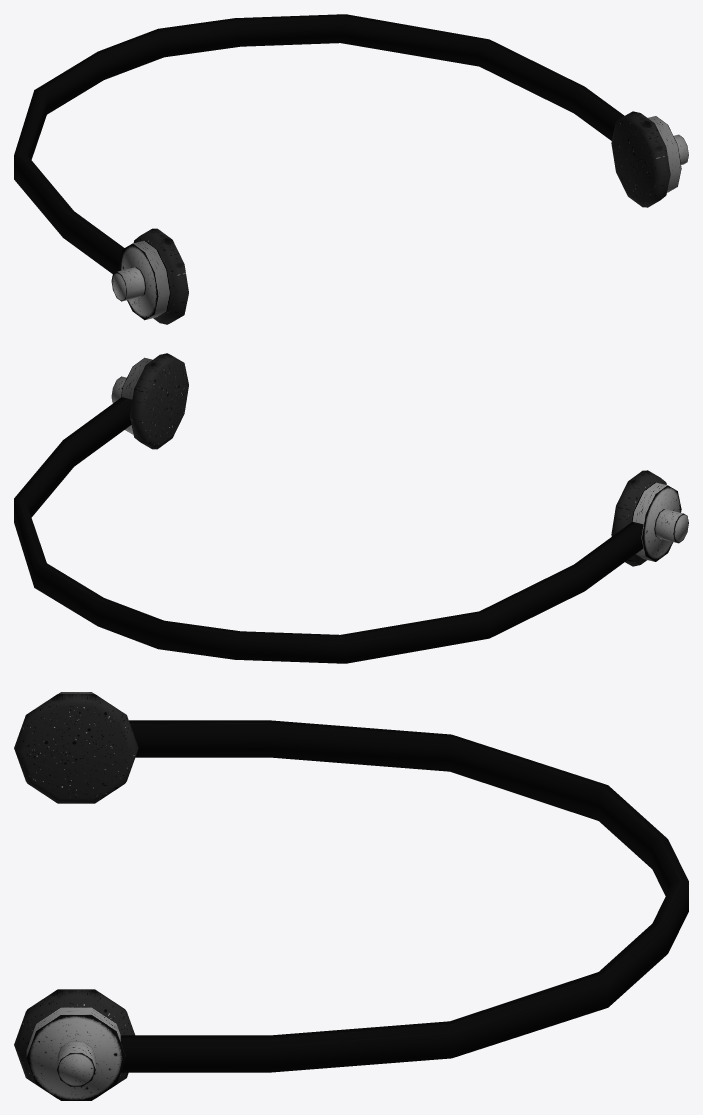
The model's file is w-man_headset.obj.
3 views of the same model, one above another, from view 1: azimuth 30°, elevation 25°; view 2: azimuth 150°, elevation 25°; view 3: azimuth 270°, elevation 25° (orthographic). The views are drawn at different scales.
Visible parts, largest first — view 1: Cylinder; view 2: Cylinder; view 3: Cylinder.
Boxes of the visible parts, x1,y1,x2,y2 form: Cylinder: (14,14,688,324); Cylinder: (14,353,688,663); Cylinder: (14,692,688,1100).
Bounding box in the file's own units: 1.09 × 0.1578 × 0.8978.
